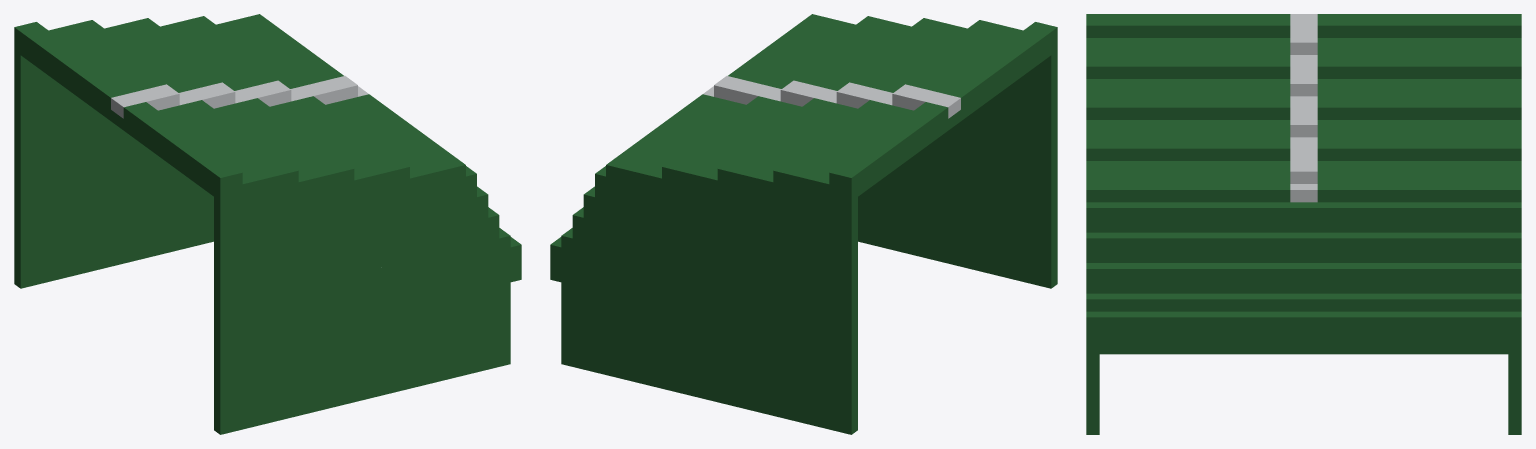
The model's file is classic_small_car_bonnet.glb.
3 renders of one model, left to right at view 1: azimuth 30°, elevation 25°; view 2: azimuth 150°, elevation 25°; view 3: azimuth 270°, elevation 25°, orthographic. The views are drawn at different scales.
Visible parts, largest first — view 1: body:compound; view 2: body:compound; view 3: body:compound.
Part boxes in pixels (x1,y1,x2,y2): body:compound: (14, 14, 521, 434); body:compound: (550, 14, 1057, 434); body:compound: (1086, 14, 1521, 434).
Bounding box in the file's own units: 0.8438 × 0.6875 × 1.
